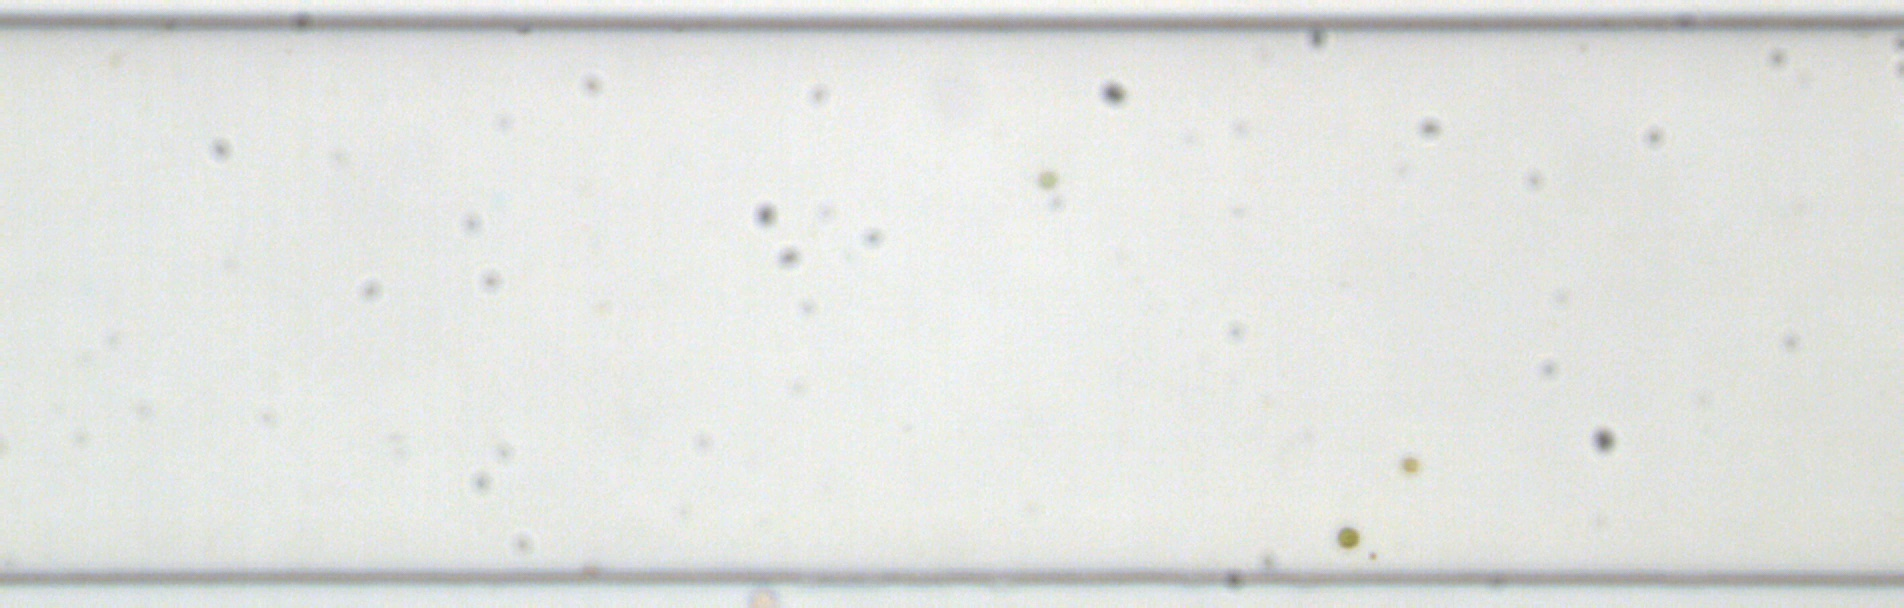Chlorella: (1334, 523, 1360, 549), (1036, 167, 1060, 191), (1400, 454, 1419, 475)
